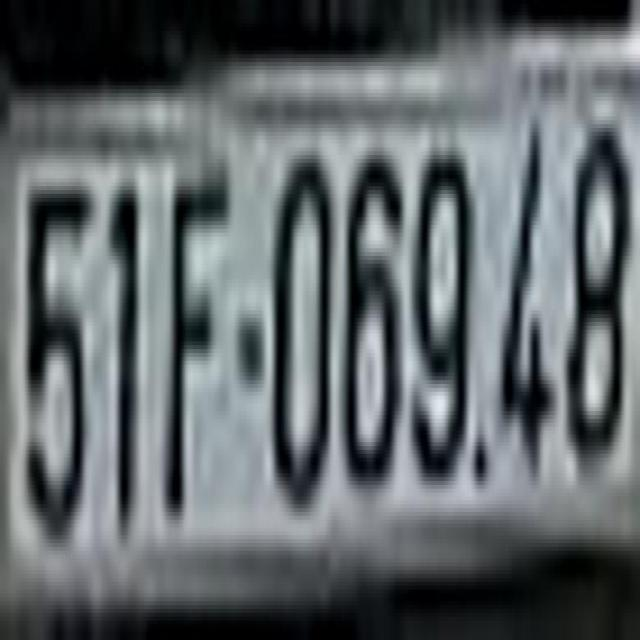0: (272, 143, 334, 520)
1: (104, 143, 139, 554)
5: (15, 132, 96, 555)
6: (340, 124, 402, 489)
8: (565, 105, 628, 469)
9: (412, 124, 470, 485), (499, 109, 553, 473)
F: (164, 155, 231, 520)
